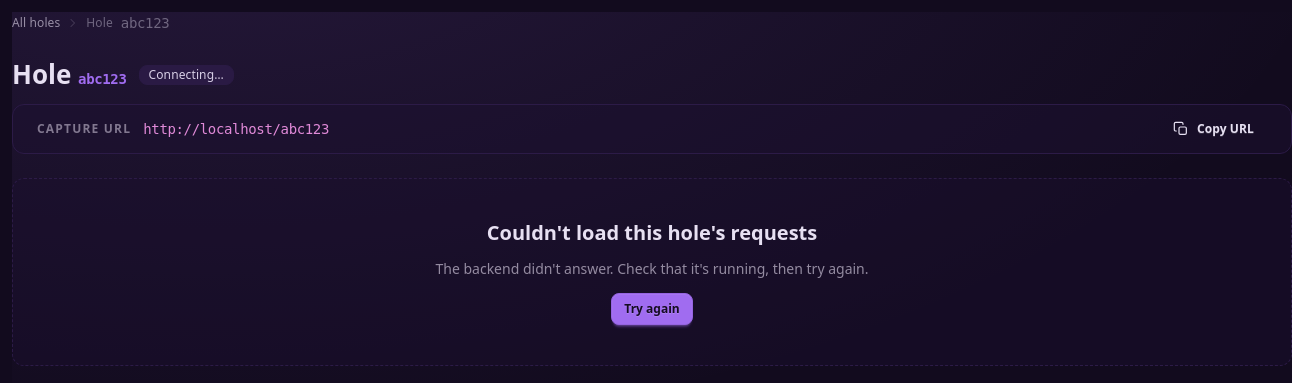
Test: Hole empty state › offers a way to ask again from the failure panel
The width and height of the screenshot is (1292, 383).
Expected: the heading "Couldn't load this hole's requests" is shown, 487,219 -> 817,246
Click the button "Try again": [652, 309] box 611,293 -> 693,325
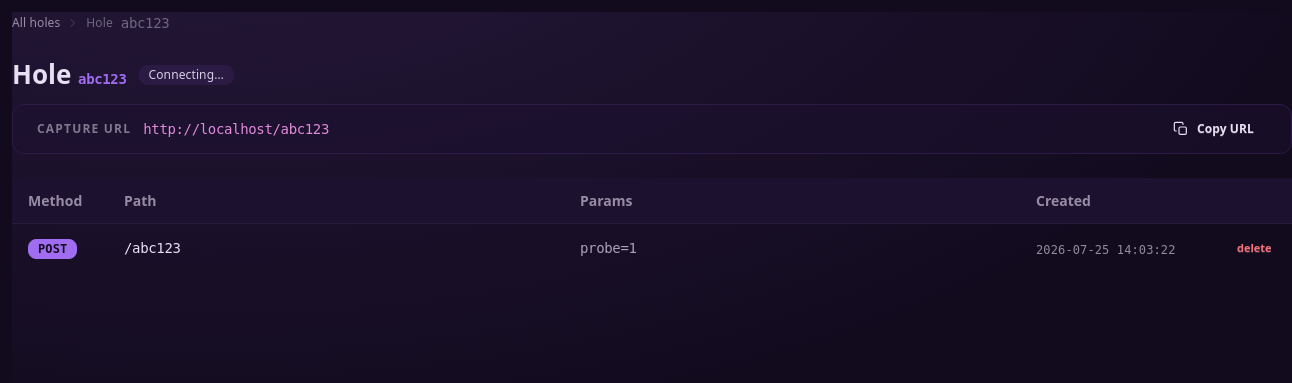
Now the link "/abc123" is shown, box 124,237 -> 181,259
Now the heading "Couldn't load this hole's requests" is gone
